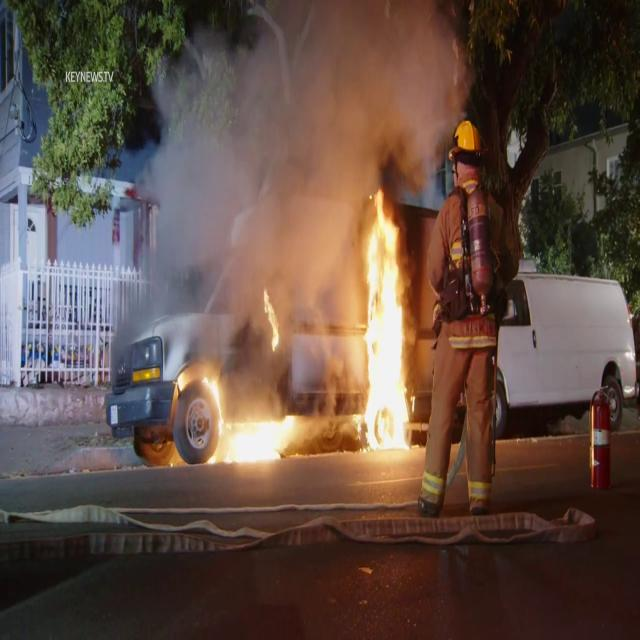Fire: (352, 182, 418, 454), (197, 365, 300, 465)
Smoke: (116, 1, 475, 346)
